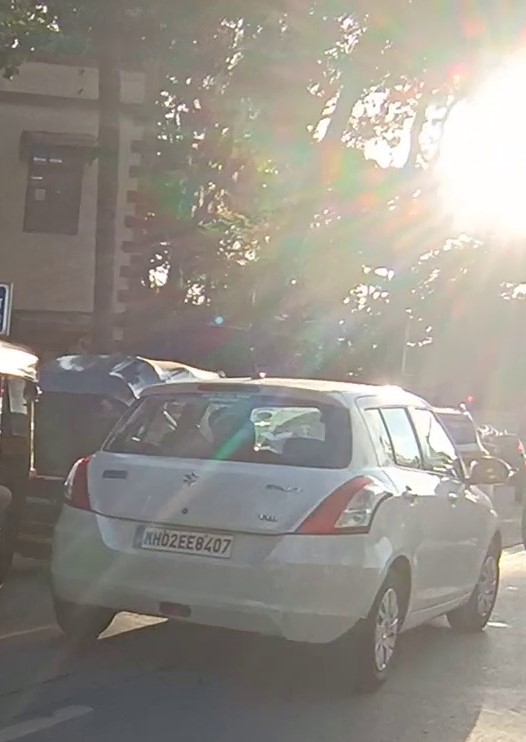MH02EE8407: (133, 521, 236, 558)
